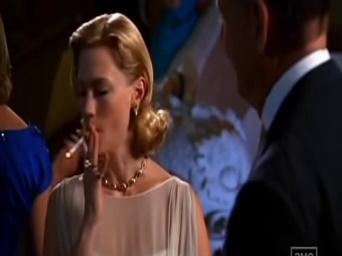smoke: (64, 133, 87, 158)
